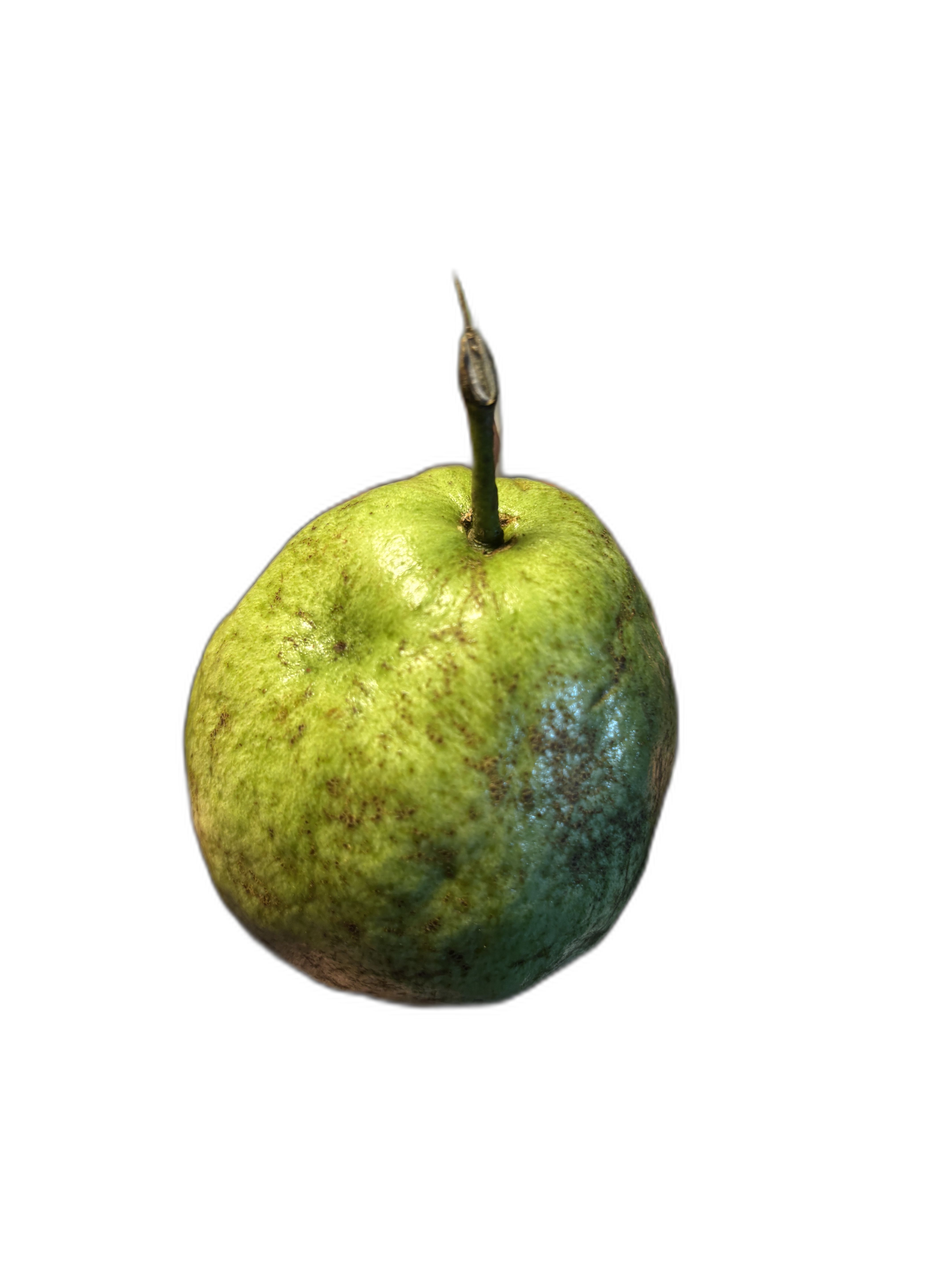guava: (115, 42, 952, 991)
